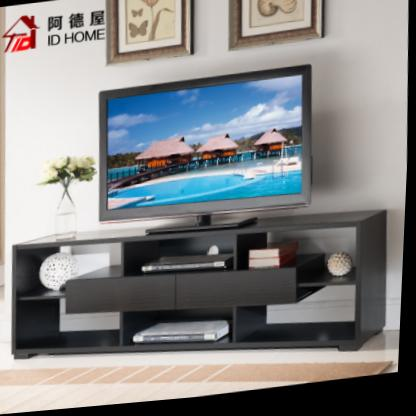TV stand: (6, 194, 398, 398)
